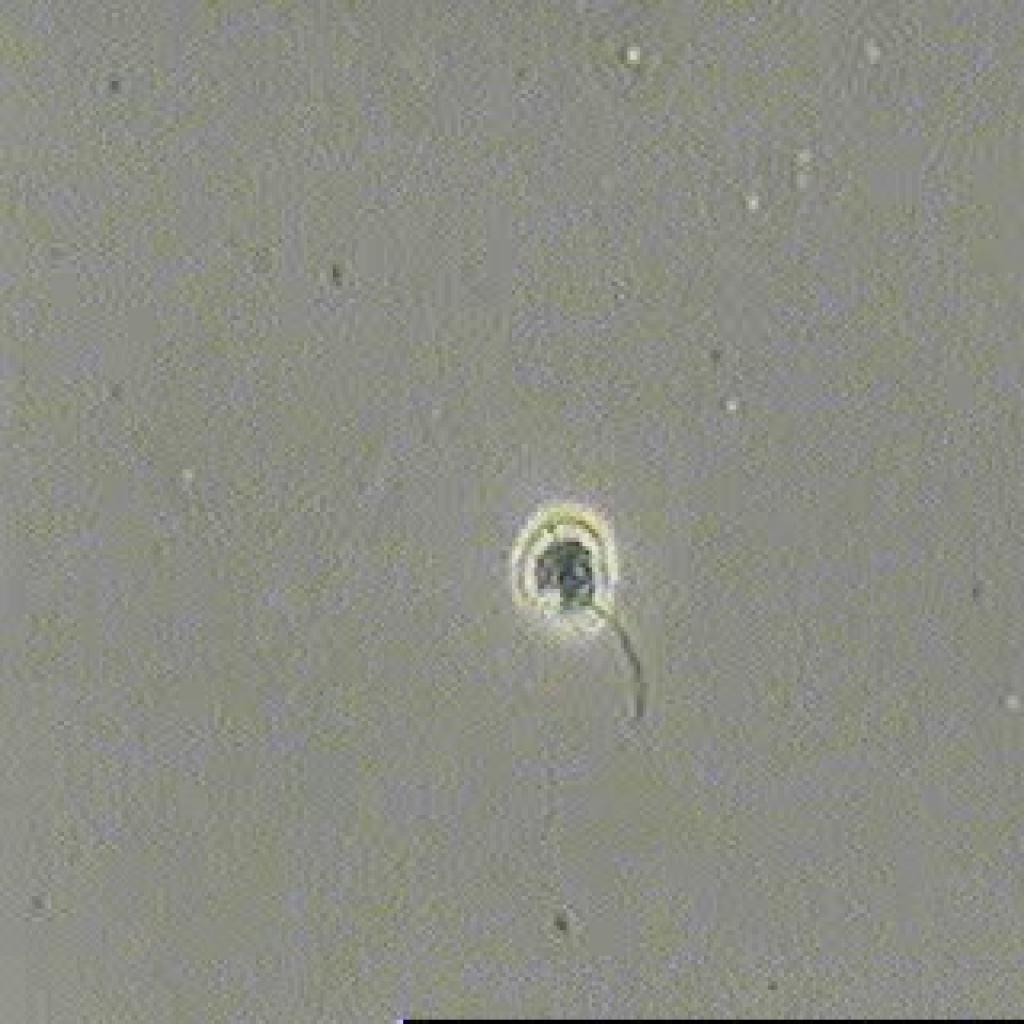Flagellates: (491, 489, 683, 740)
